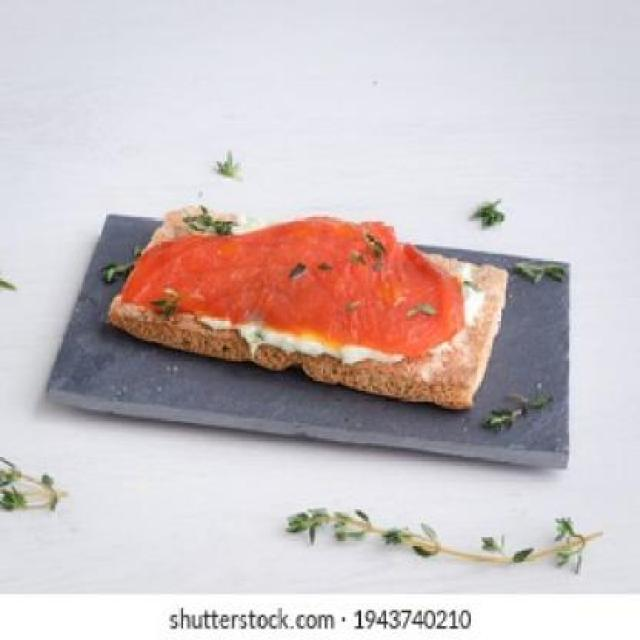salmon: (111, 192, 481, 380)
